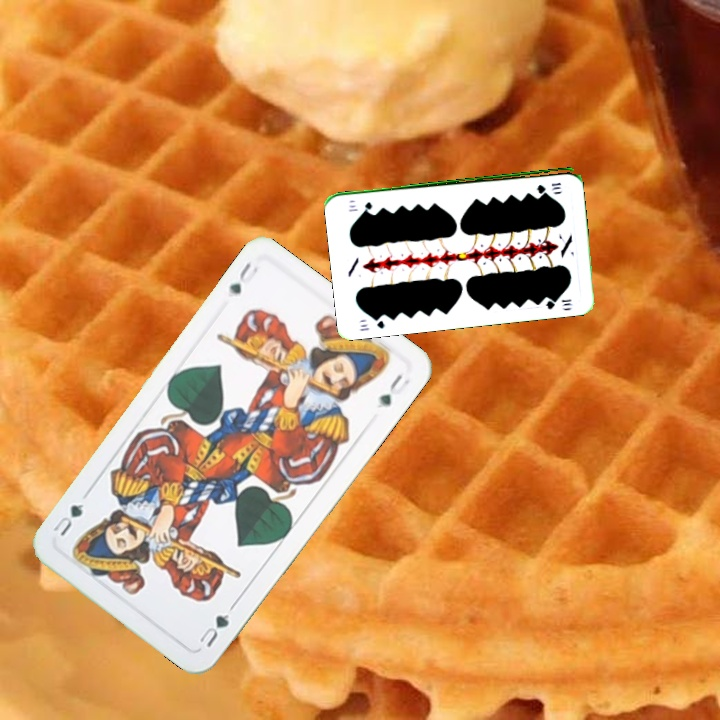G10: (355, 312, 387, 334), (533, 179, 563, 194)
GU: (195, 601, 237, 650), (224, 257, 261, 297)
